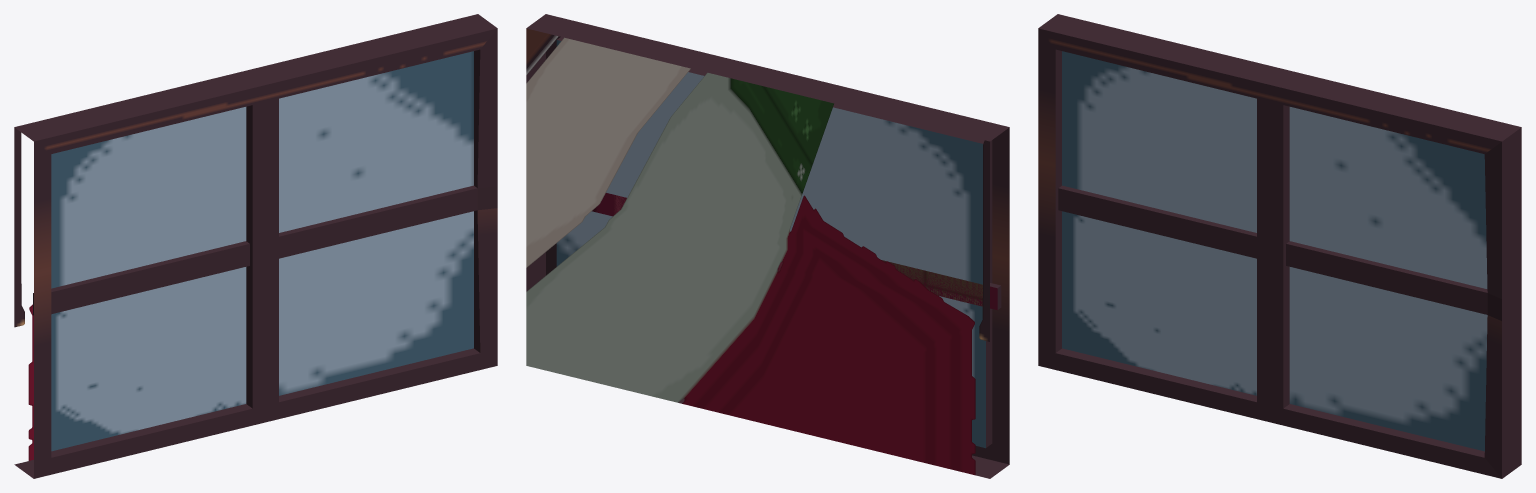
File: JanelaHorizontal.fbx
3 views of the same model, side by side, from view 1: azimuth 30°, elevation 25°; view 2: azimuth 150°, elevation 25°; view 3: azimuth 330°, elevation 25° (orthographic).
Parts seen in each view (by area): view 1: JanelaHorizontal; view 2: JanelaHorizontal; view 3: JanelaHorizontal.
Part boxes in pixels (x1,y1,x2,y2): JanelaHorizontal: (14,14,497,478); JanelaHorizontal: (526,14,1009,478); JanelaHorizontal: (1038,14,1521,478).
Bounding box in the file's own units: 144 × 10.57 × 100.
